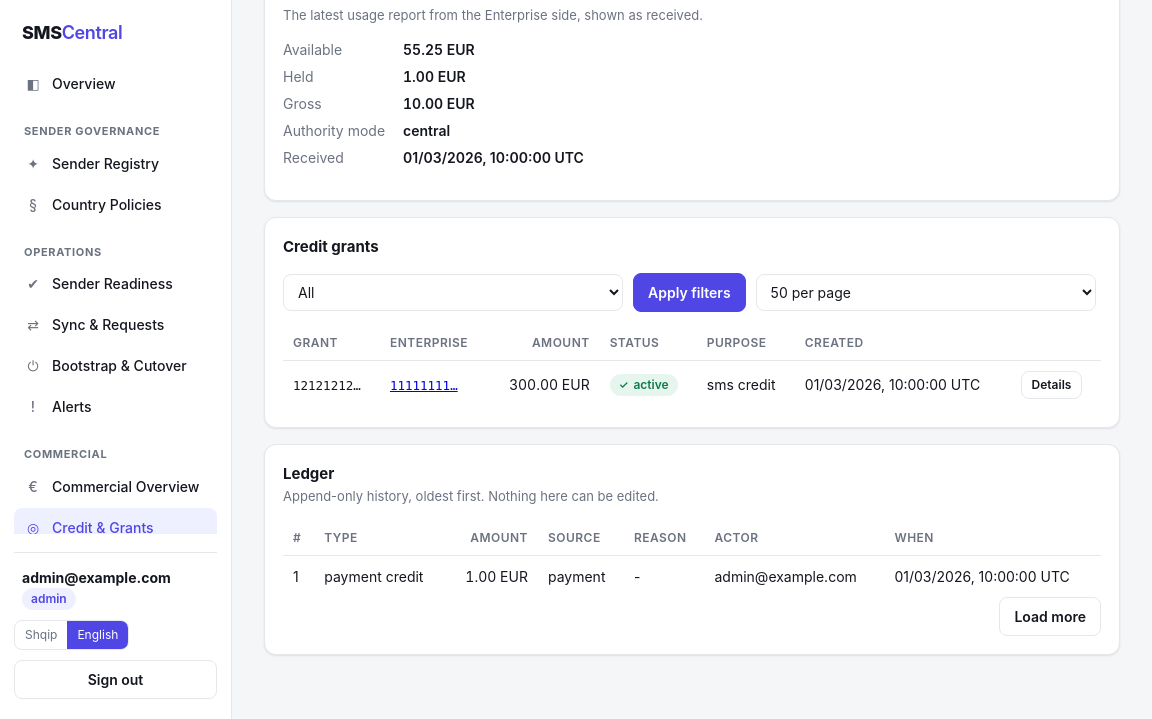
Test case: overview, credit and grants › 8 ledger loads the next page with after_seq from the server
(page scrolled)
Expected: the navigation bar named "Main navigation" is shown, [14,64,217,534]
Click the button "Load more".
click(1050, 616)  # box [1000,596,1101,636]
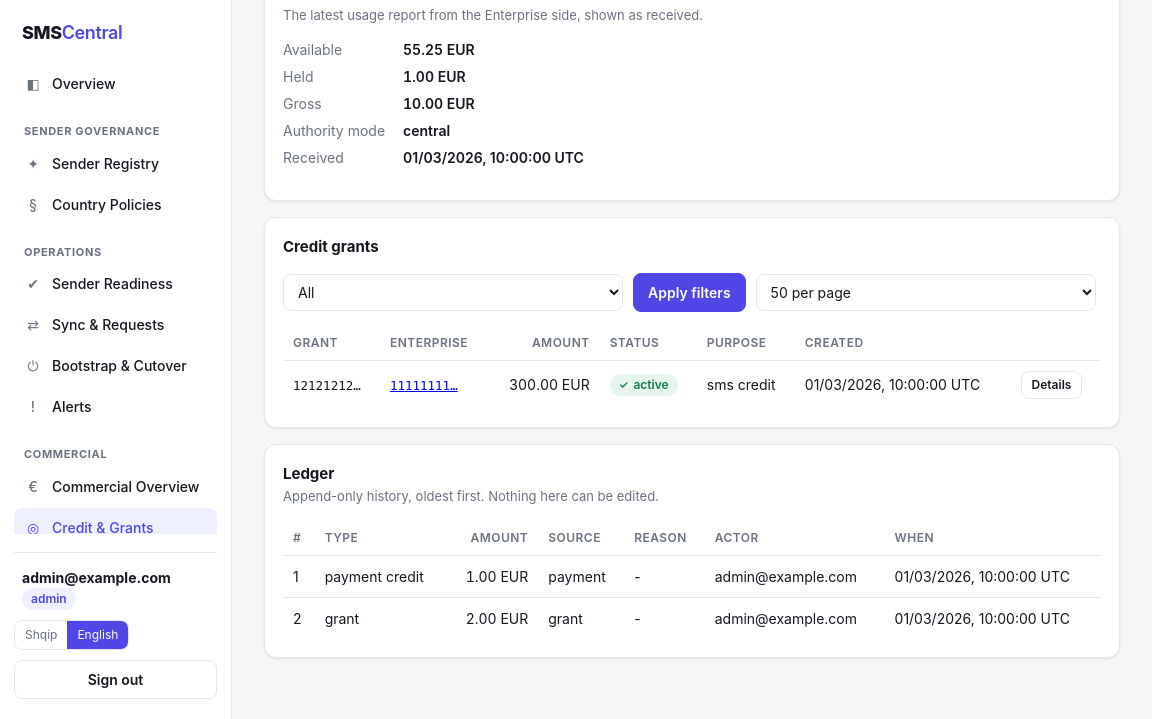
Now the button "Load more" is gone
